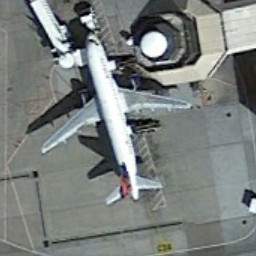Airplane: (21, 22, 197, 219)
